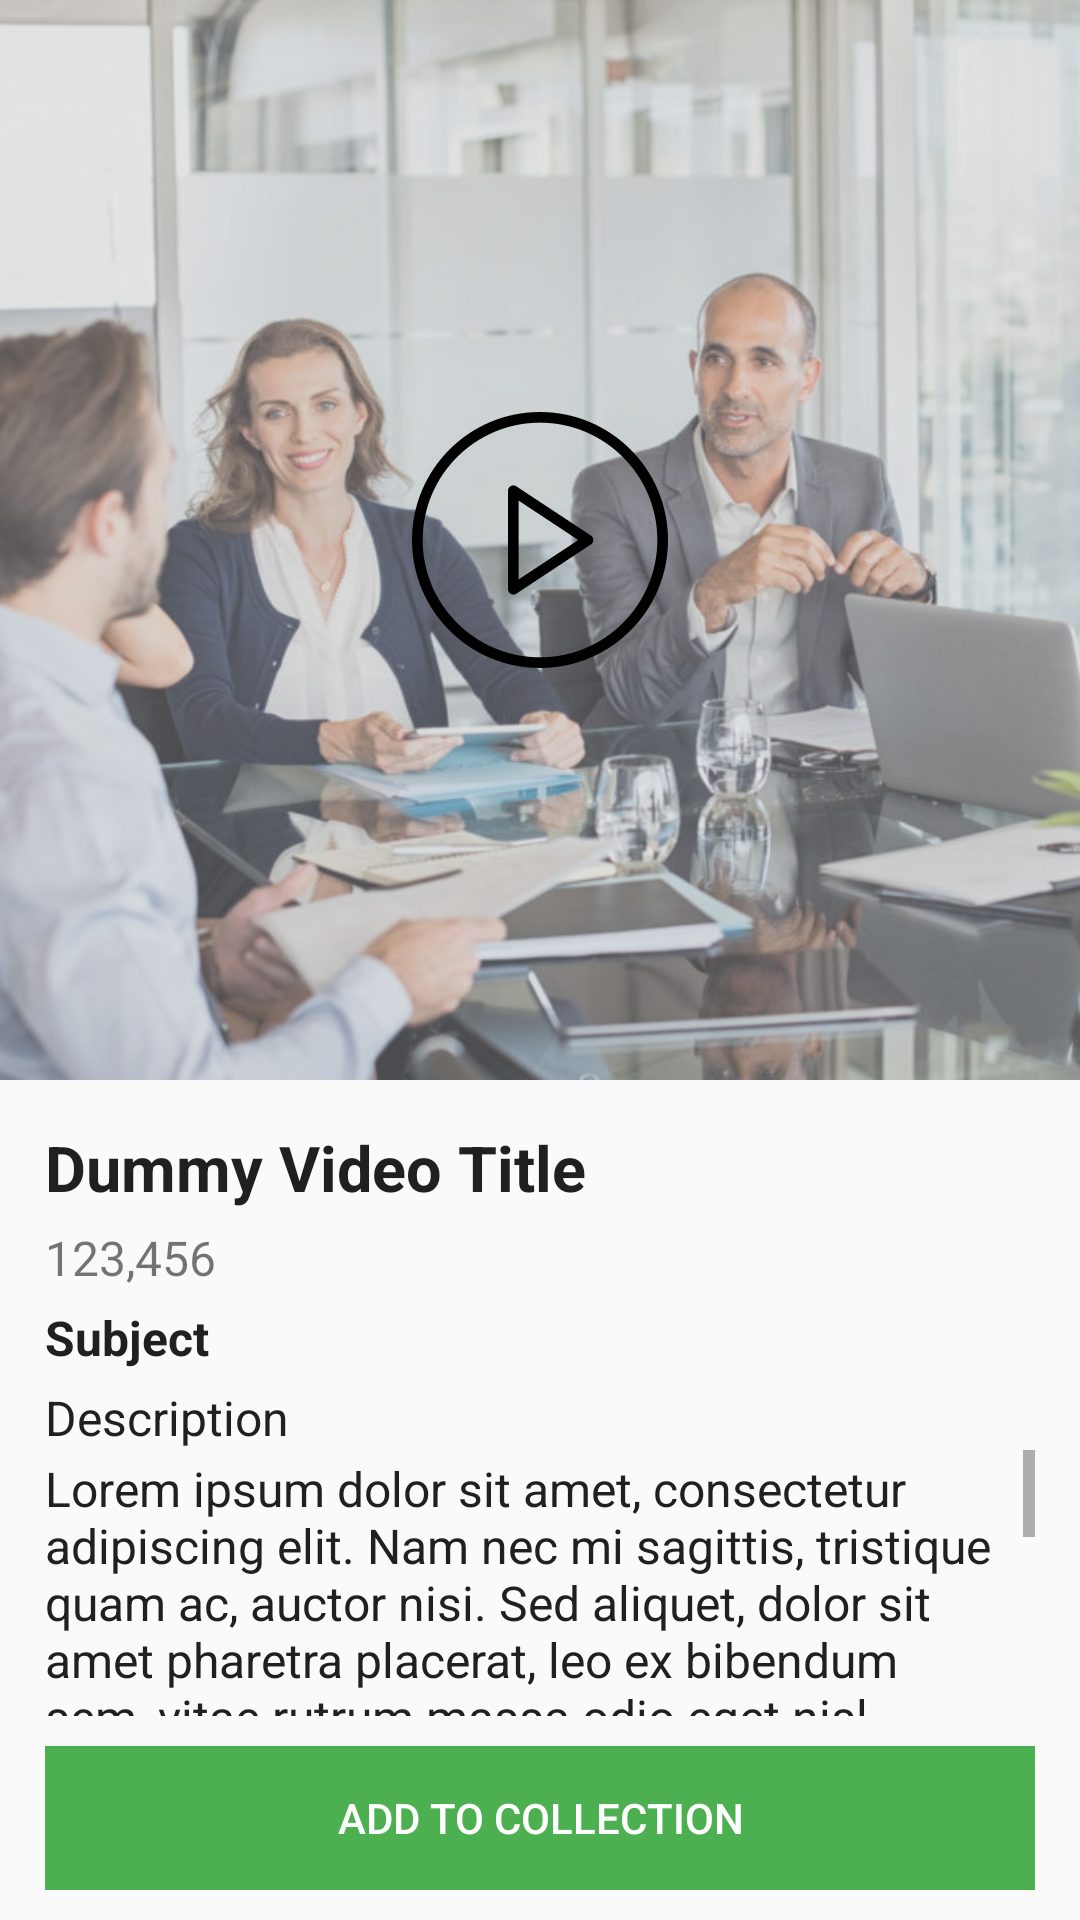

Where to tap for icons on this 1080px x 1920px app screen, as [x,y]:
video: [540,540]
